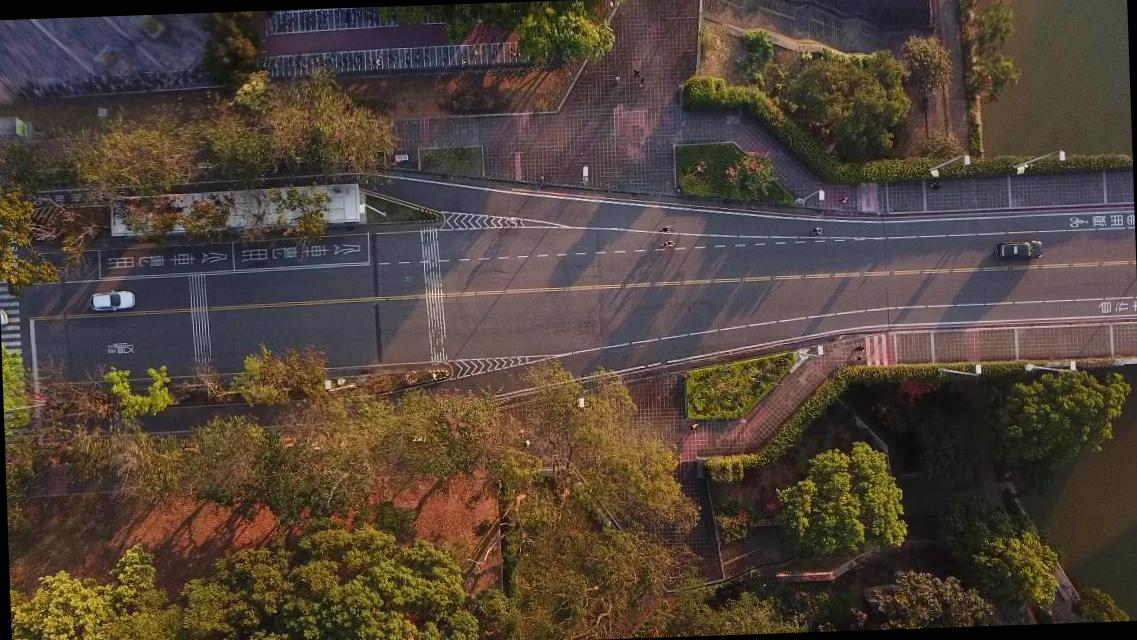vehicle: (993, 238, 1042, 262), (88, 288, 134, 312)
